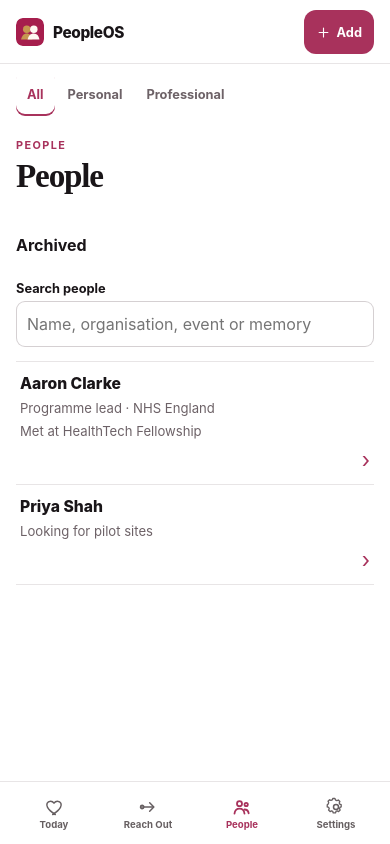
it: V1-11 People search and filters UI › distinguishes no matches from first-use emptiness and offers deterministic recovery actions
The image size is (390, 844).
Type "Nobody here" into the search field labelled "Search people" at (195, 324), box [16,302,374,348]
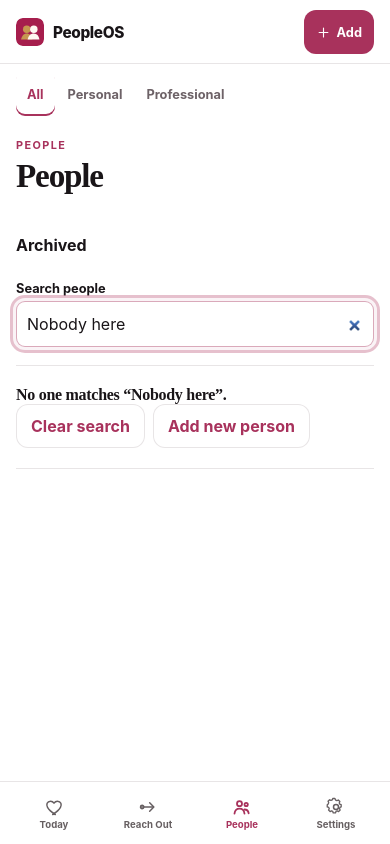
Expected: the heading "No one matches “Nobody here”." is shown, [16,386,226,404]
Expected: the button "Clear search" is shown
Expected: the button "Add new person" is shown, [153,404,310,448]
Click the button "Clear search" at (80, 426), box [16,404,145,448]
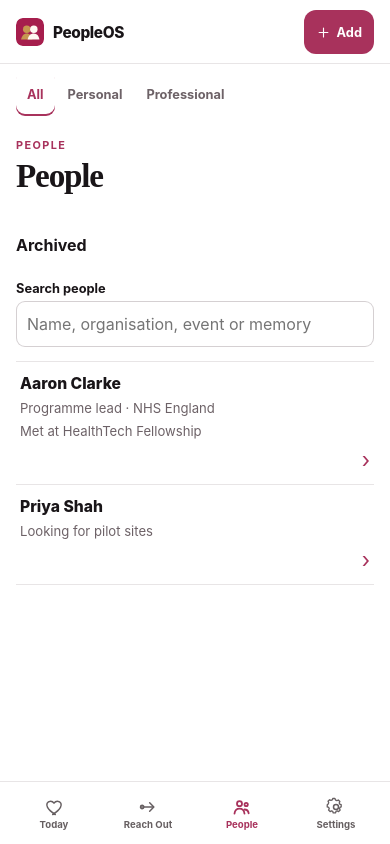
Expected: the list named "People search results" shows "Aaron Clarke", [16,362,374,486]
